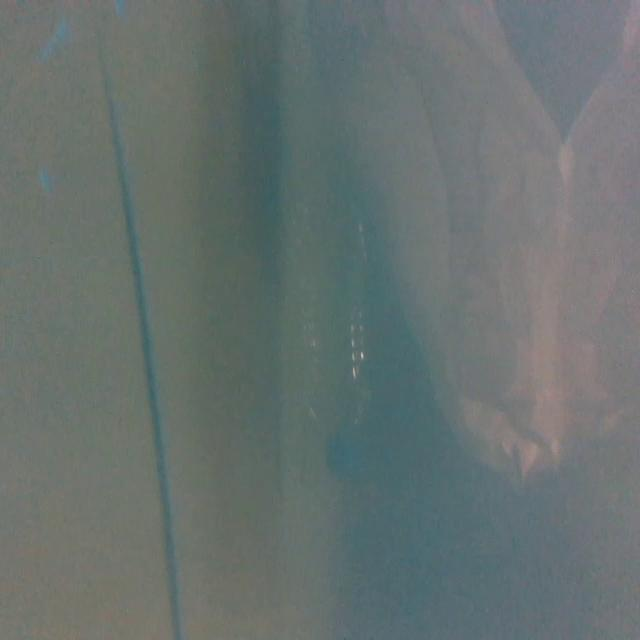plastic bags: (381, 4, 640, 501)
plastic bottle: (292, 198, 375, 491)
